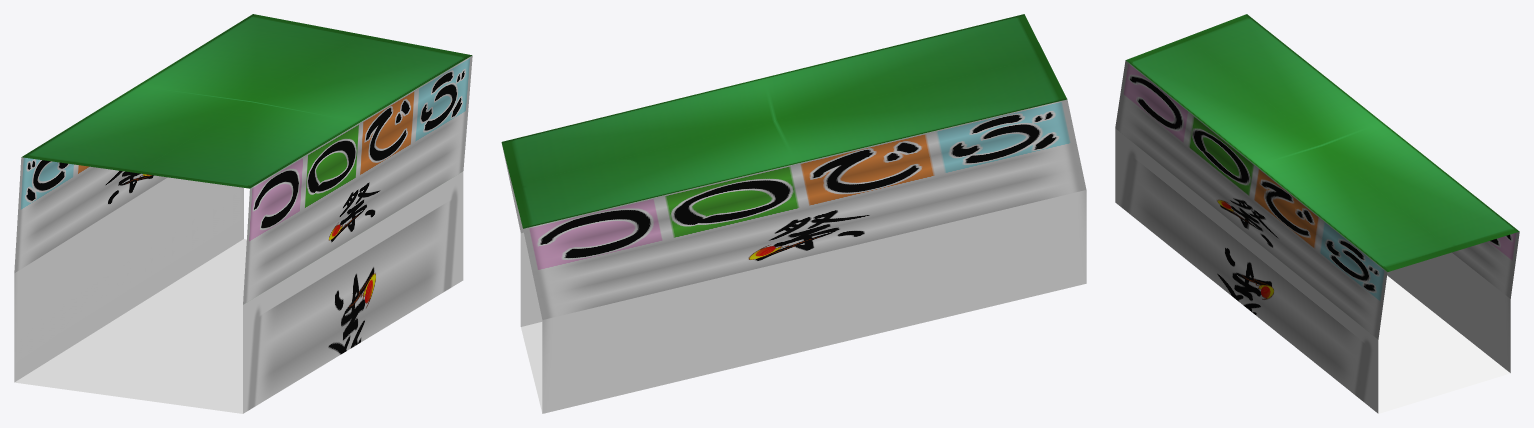
File: CourseAki_Wall_L_6_9.fbx
3 views of the same model, side by side, from view 1: azimuth 30°, elevation 25°; view 2: azimuth 150°, elevation 25°; view 3: azimuth 270°, elevation 25° (orthographic). The views are drawn at different scales.
Parts seen in each view (by area): view 1: polySurface370; view 2: polySurface370; view 3: polySurface370.
Boxes of the visible parts, <box> form: polySurface370: <box>14,14,472,413</box>; polySurface370: <box>501,14,1086,413</box>; polySurface370: <box>1115,14,1519,413</box>.
Size of the model in its own units: 5.46 by 2.98 by 4.94.
Materials: 1 (1 with a texture image).
